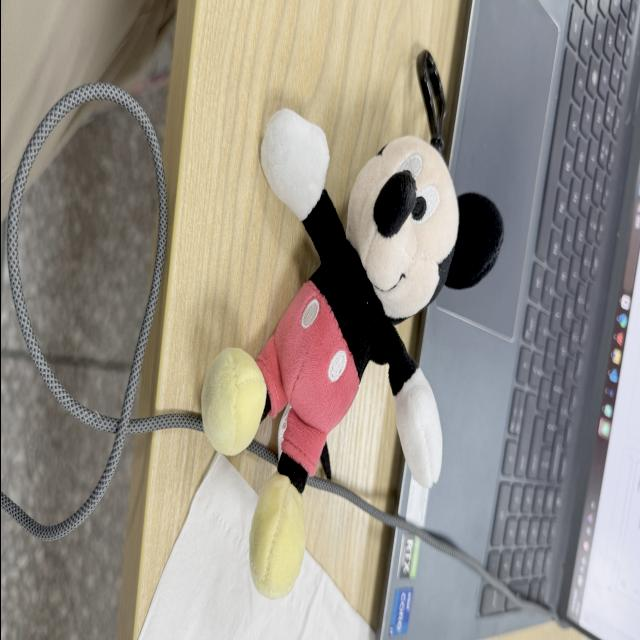mickey: (201, 110, 502, 598)
